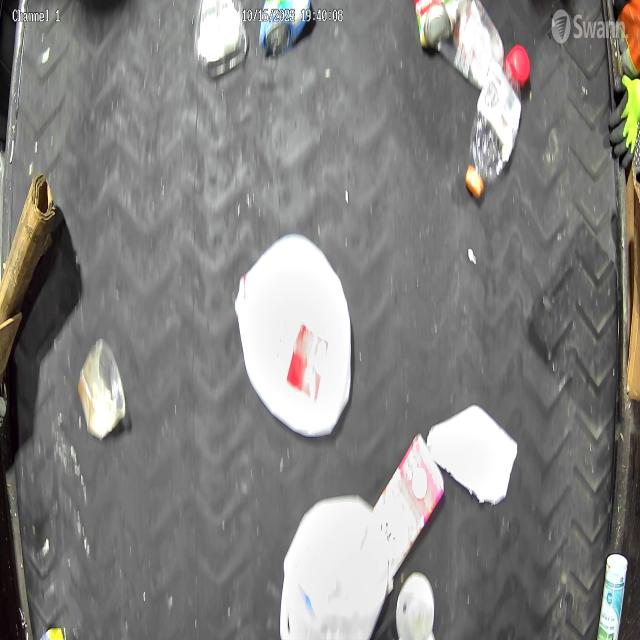can: (415, 0, 455, 49)
milk_jug: (233, 233, 353, 439), (278, 493, 389, 640)
plastic_bottle: (464, 58, 522, 200)
